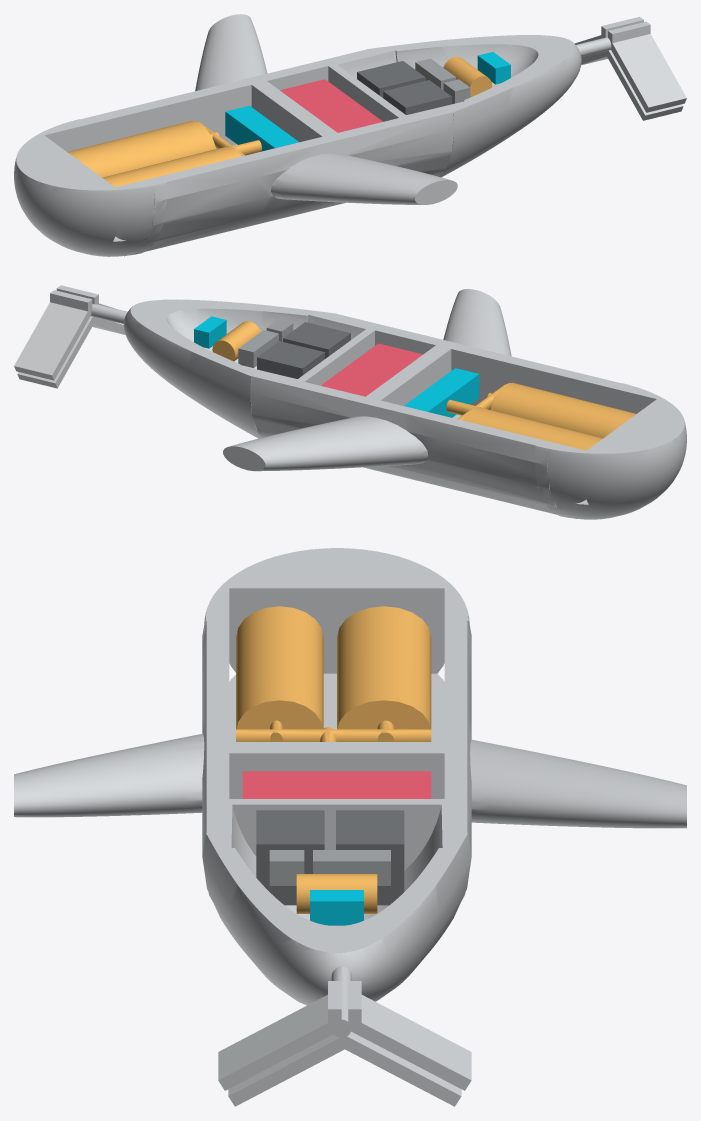
The model's file is robot.glb.
The picture shows the model from 3 angles, top to bottom: view 1: azimuth 30°, elevation 25°; view 2: azimuth 150°, elevation 25°; view 3: azimuth 270°, elevation 25°; orthographic projection. The views are drawn at different scales.
Parts seen in each view (by area): view 1: obj_0; view 2: obj_0; view 3: obj_0.
Boxes of the visible parts, box(x1,y1,x2,y2) form: obj_0: box(14, 14, 686, 256); obj_0: box(14, 285, 686, 519); obj_0: box(14, 548, 686, 1106).
Size of the model in its own units: 81.34 by 12 by 50.
